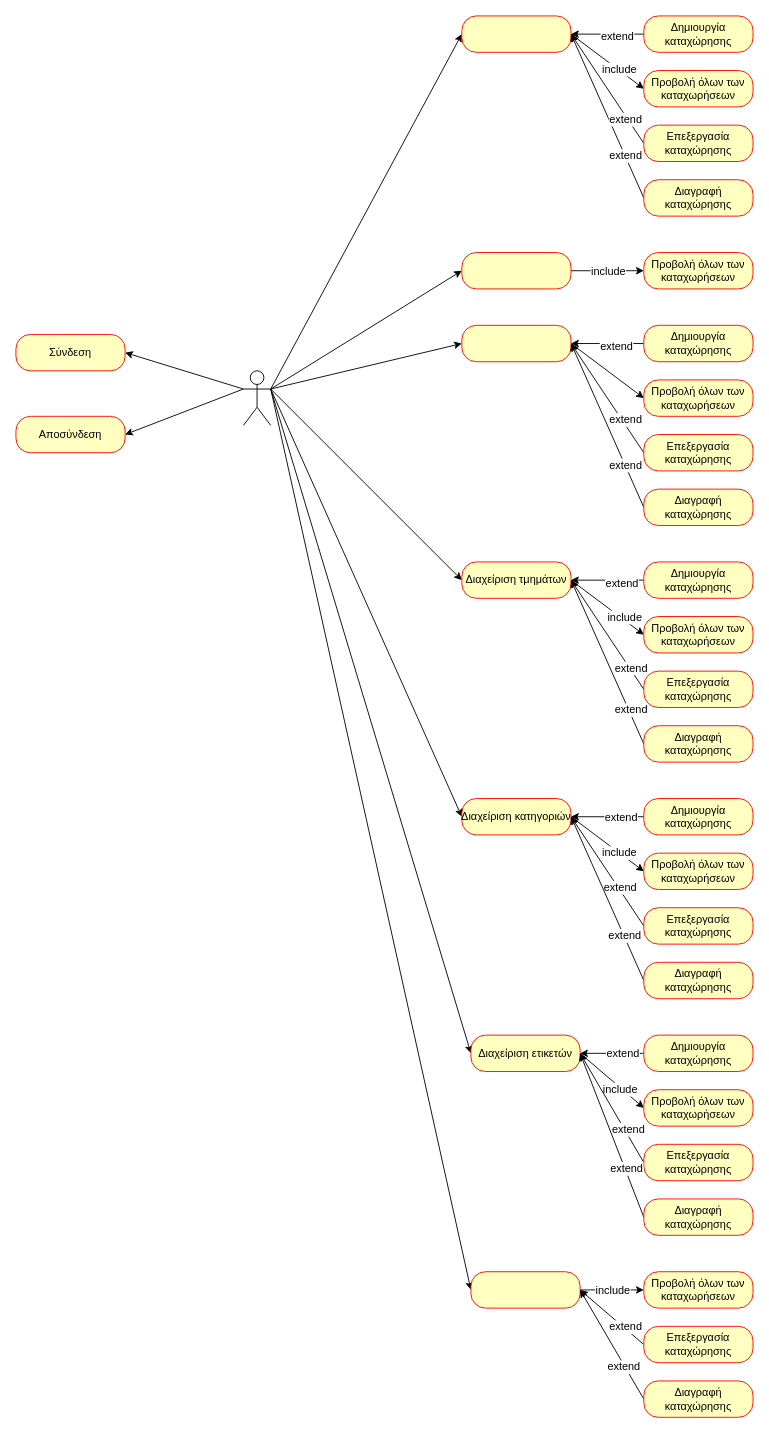
The diagram is 769 pixels wide and 1433 high, and some of its shapes have lost their labels. The shapes that lost their labels are listed below. From the top down, each one's centre as x and y in pixels, then its label:
At (x=516, y=33): "Διαχείριση χρηστών".
At (x=516, y=270): "Διαχείριση ρόλων".
At (x=516, y=343): "Διαχείριση εταιριών".
At (x=257, y=397): "Super Admin".
At (x=525, y=1289): "Διαχείριση θέσεων εργασίας".
